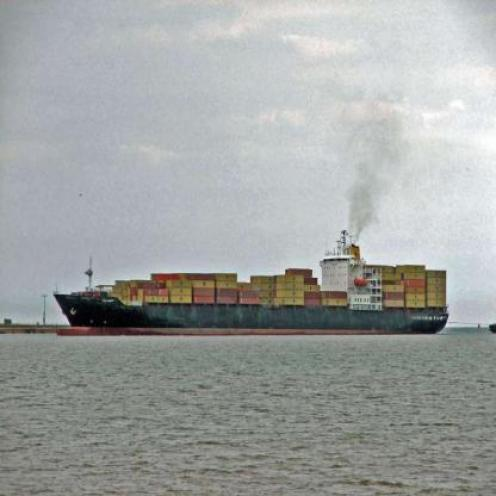Ship: (39, 255, 457, 340)
